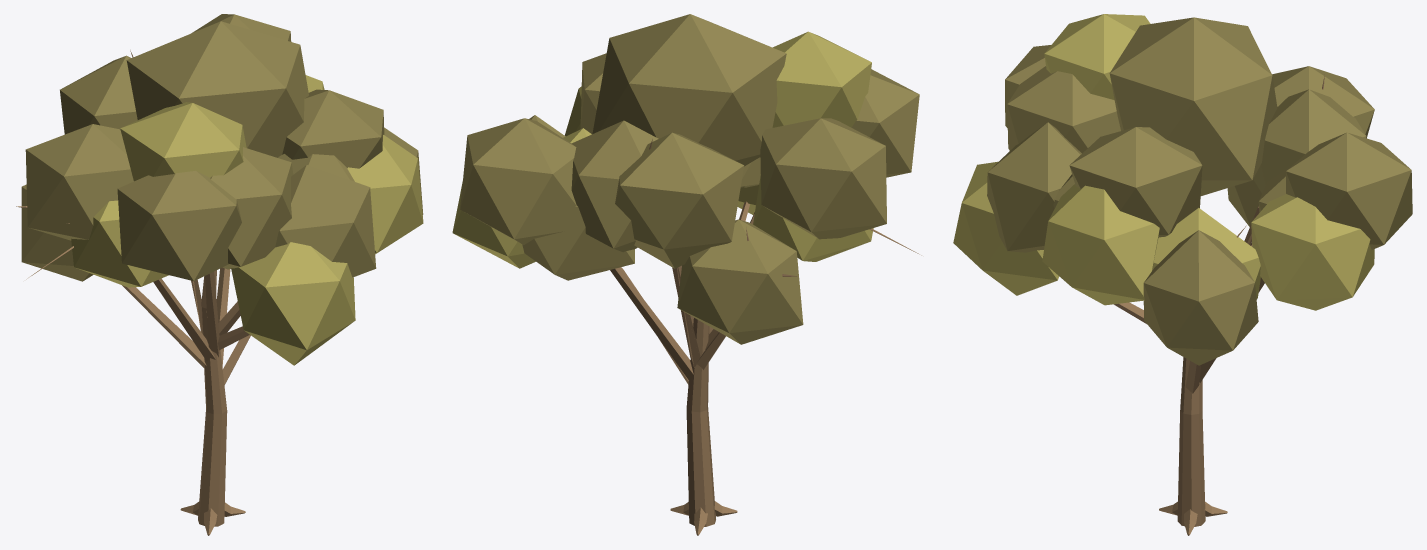
File: oak_autumn_early_01.glb
The picture shows the model from 3 angles, left to right: view 1: azimuth 30°, elevation 25°; view 2: azimuth 150°, elevation 25°; view 3: azimuth 270°, elevation 25°; orthographic projection. The views are drawn at different scales.
Visible parts, largest first — view 1: Oak_autumn_early_01; view 2: Oak_autumn_early_01; view 3: Oak_autumn_early_01.
Part boxes in pixels (left/top/right/bottom): Oak_autumn_early_01: left=16, top=14, right=423, bottom=535; Oak_autumn_early_01: left=452, top=14, right=921, bottom=535; Oak_autumn_early_01: left=953, top=14, right=1412, bottom=535.
Bounding box in the file's own units: 13.98 × 16.03 × 13.09.
